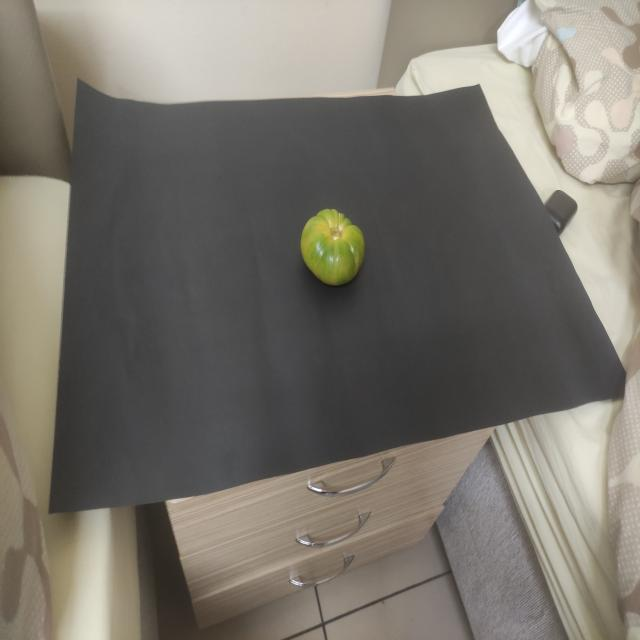yesil: (286, 197, 372, 291)
